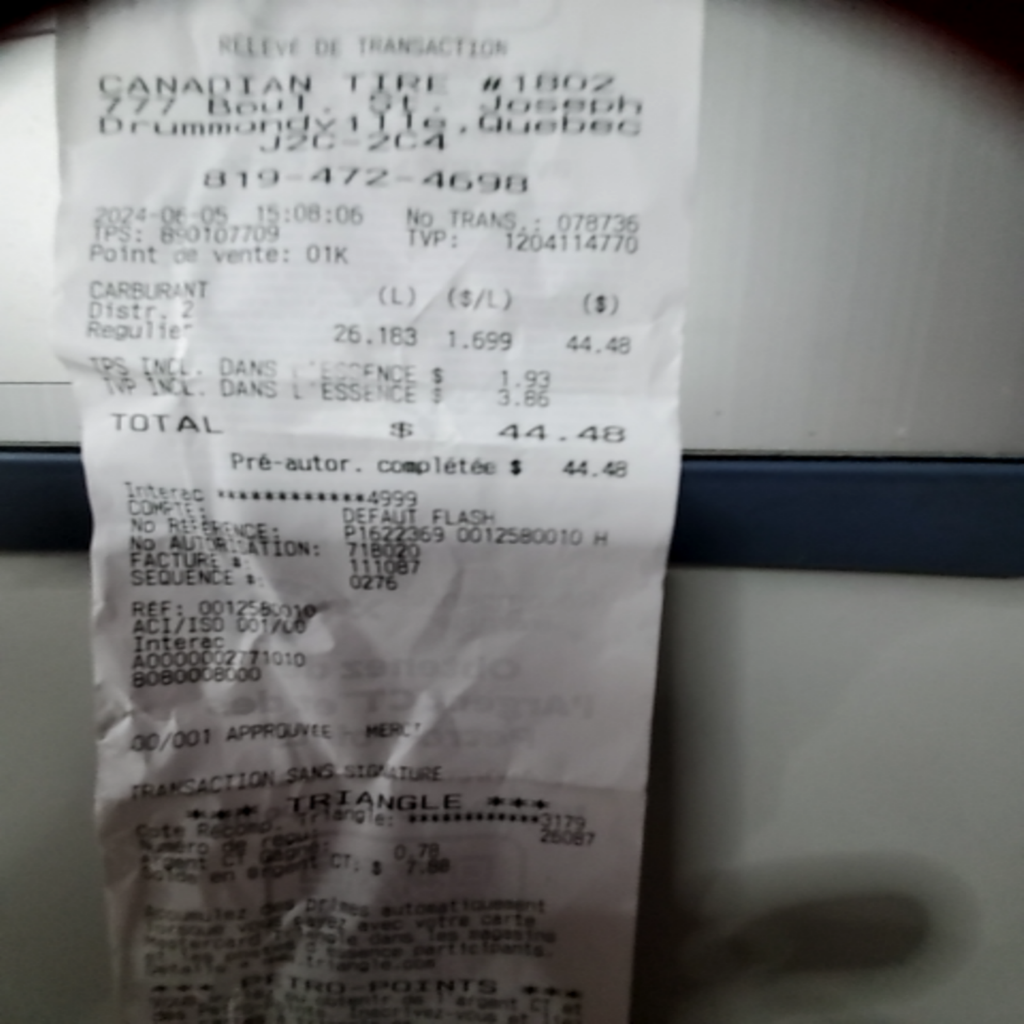recipt: (55, 2, 703, 1011)
